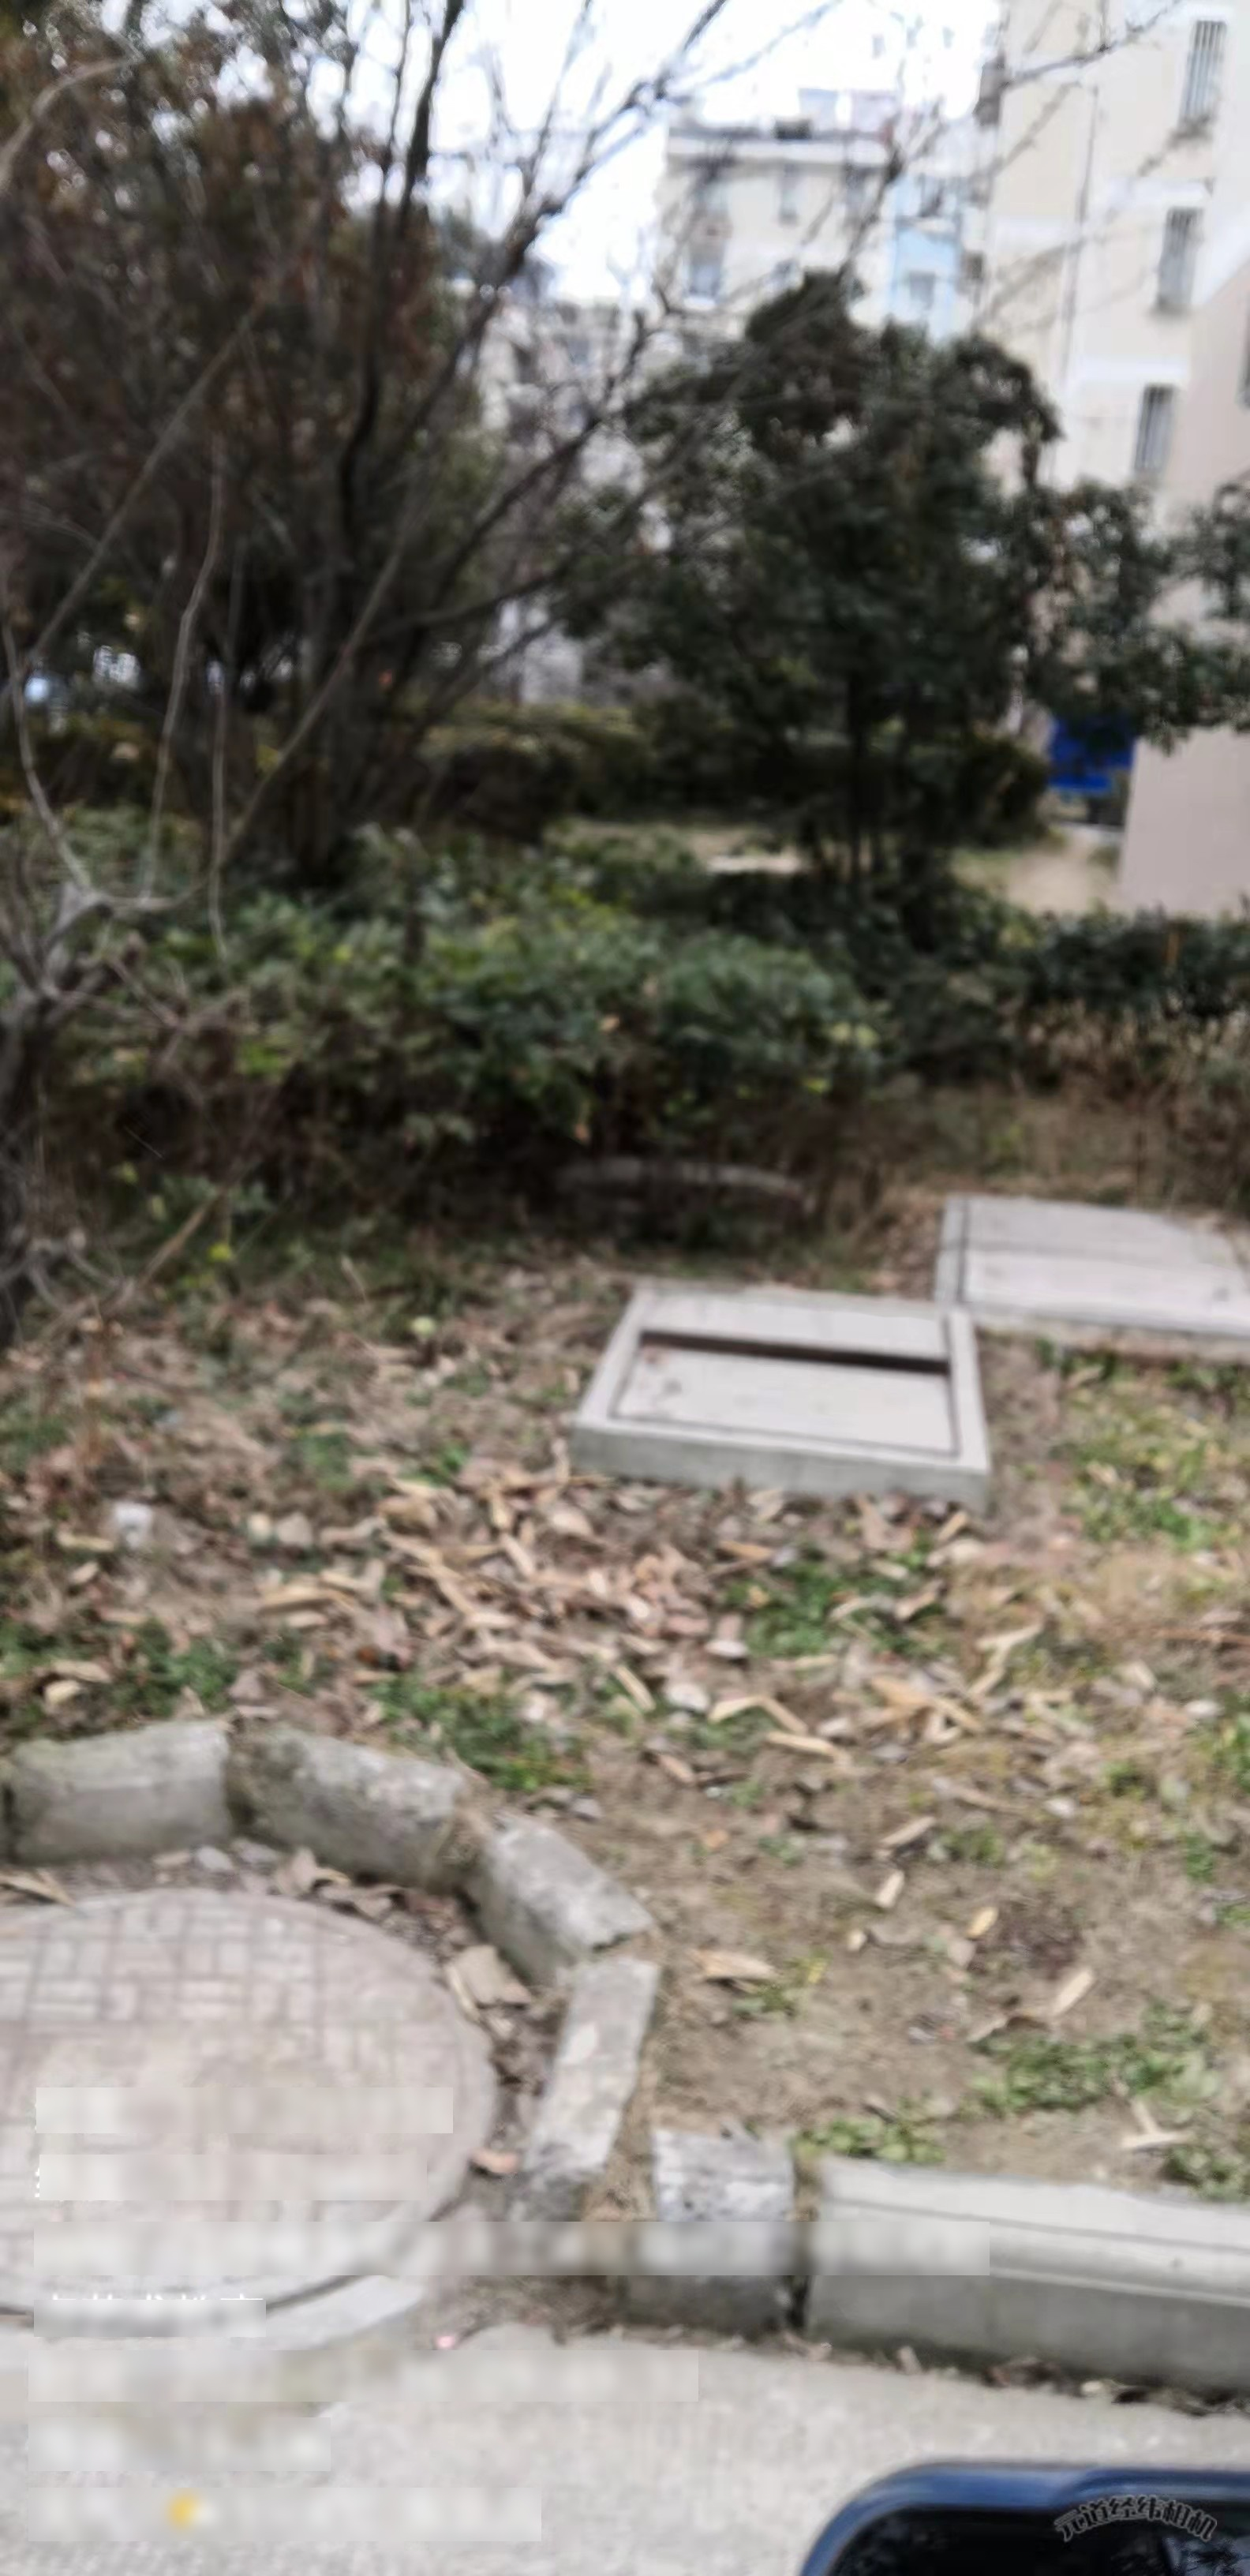good: (8, 1881, 544, 2354), (930, 1176, 1250, 1375)
uncovered: (567, 1270, 992, 1487)
